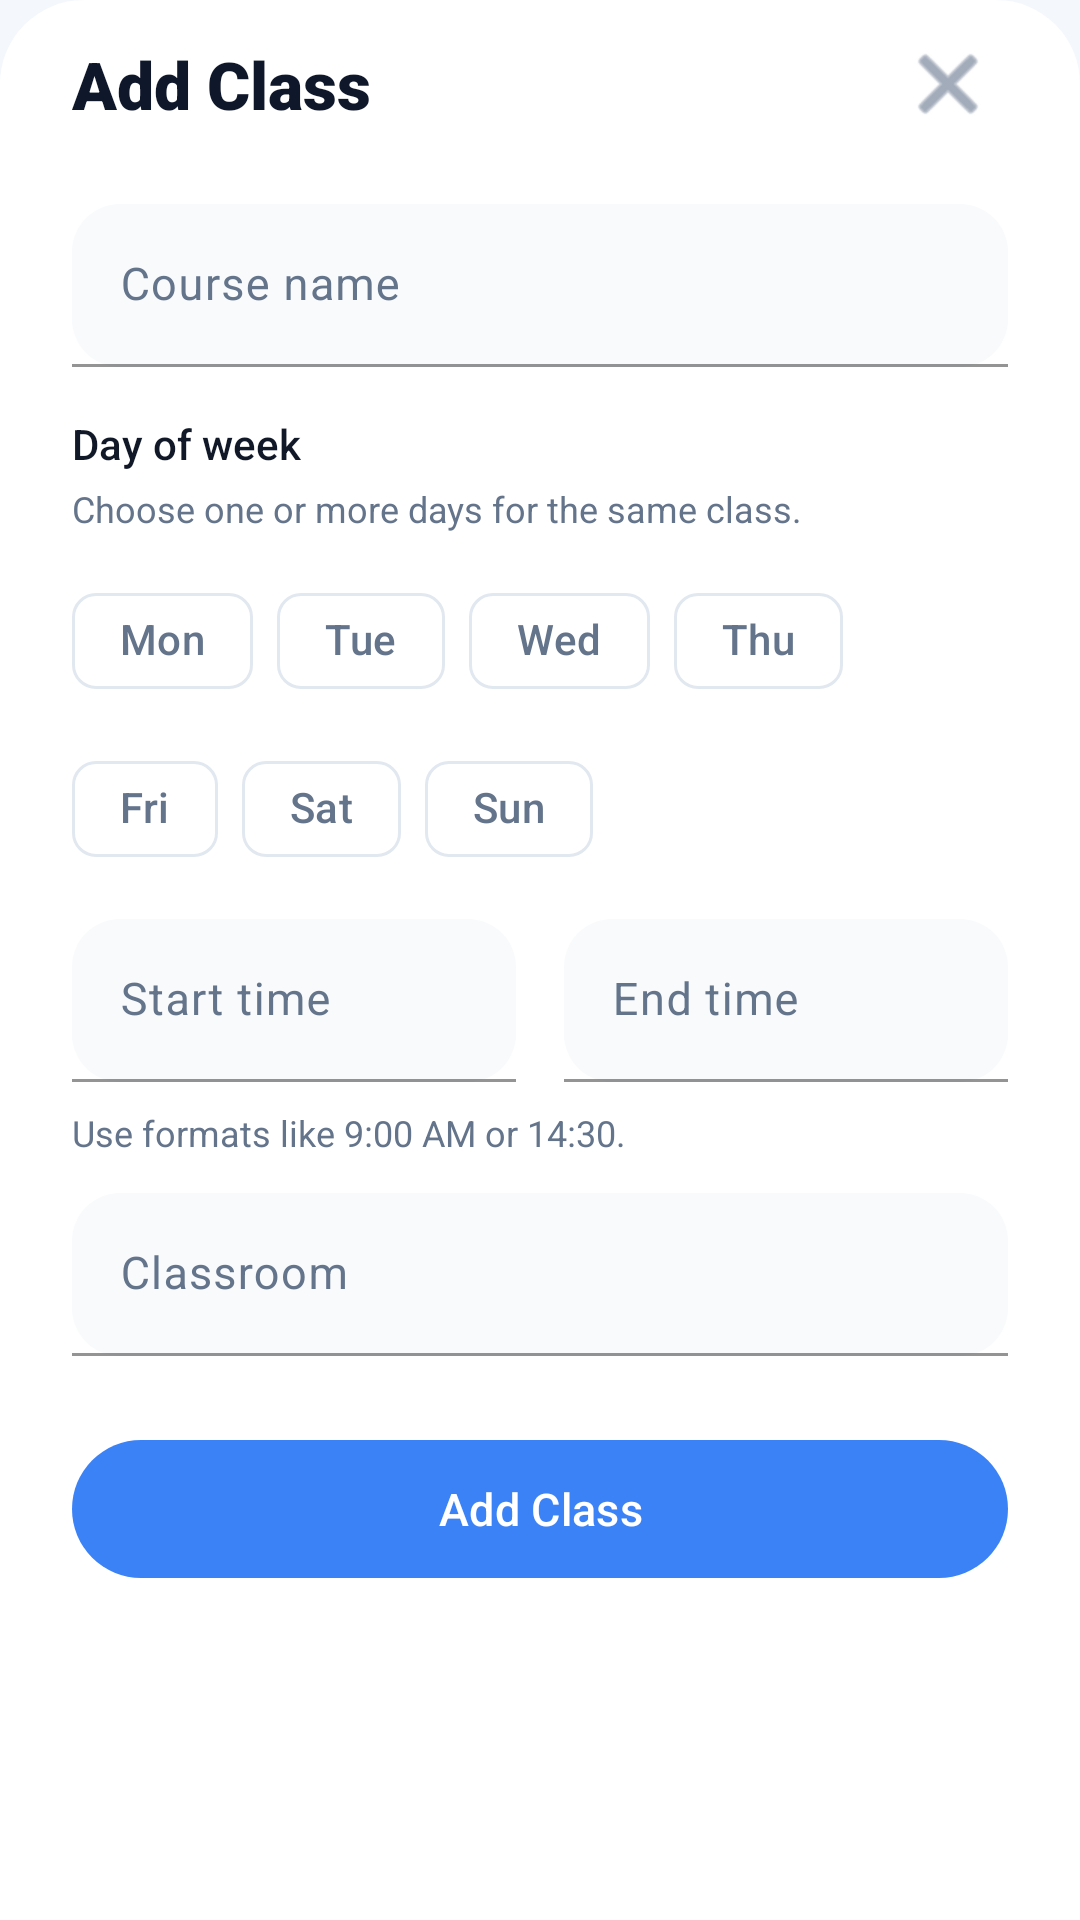

Point at icon controls on the screen. Image size 1080x1920, points as (x=x, y=y).
Close: (x=948, y=84)
